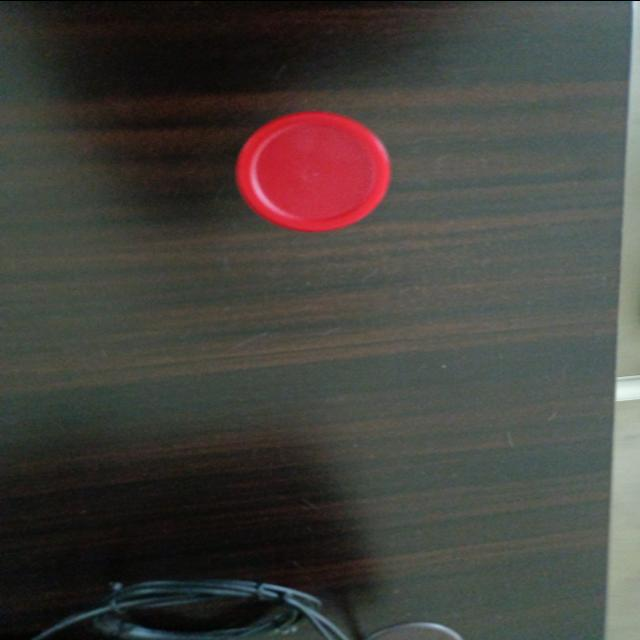chip: (232, 105, 394, 233)
